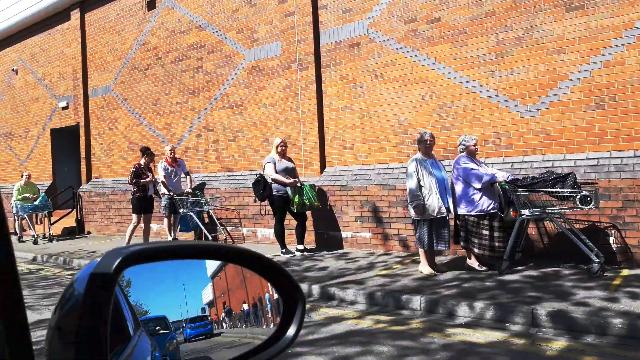berdiri: (256, 138, 318, 264), (410, 132, 450, 280), (122, 143, 156, 249)
